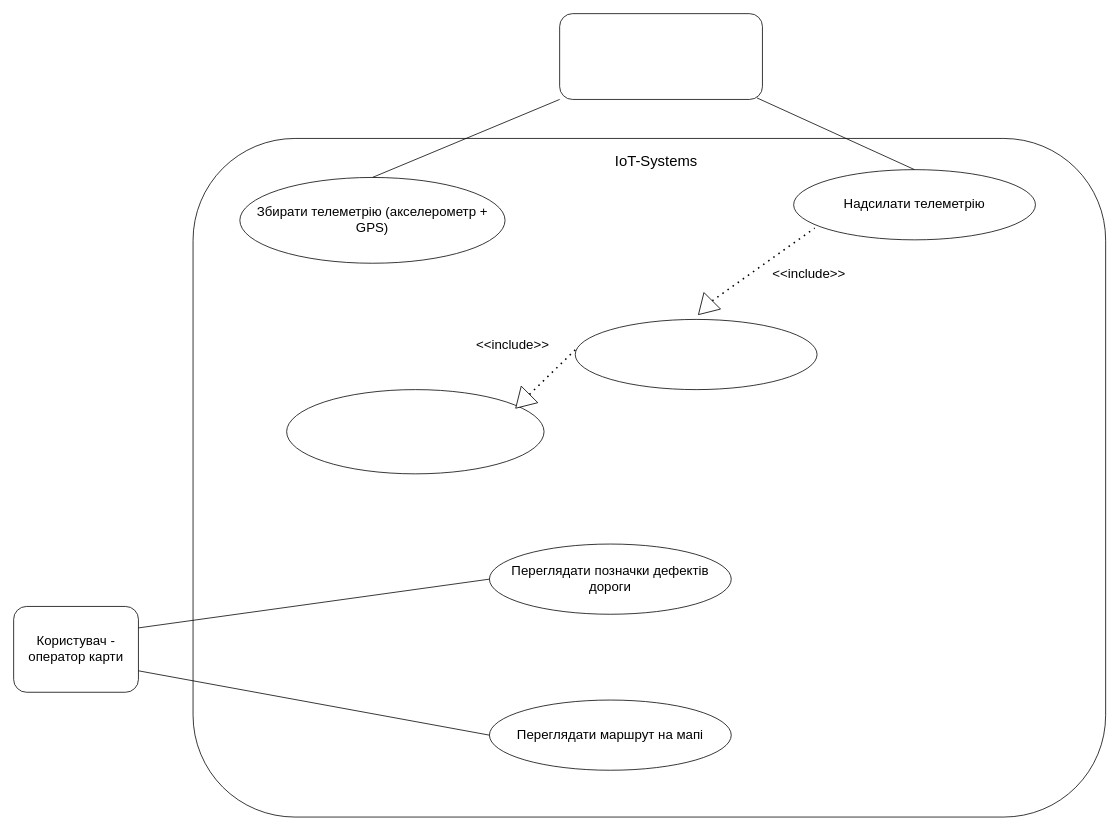
Image size: 1119x831. Some labels were removed from this diagram. Each missing label, with the box of its shape:
Агент датчиків (пристрій / STM32 / емулятор): (559, 13, 762, 99)
Визначати стан дороги (яма / bump / normal): (286, 389, 544, 474)
Обробляти телеметрію: (574, 319, 817, 390)
